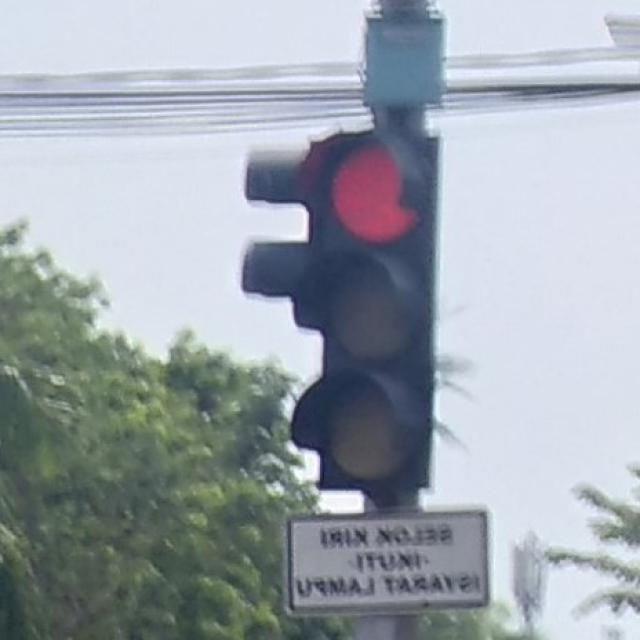red_light: (240, 97, 437, 507)
